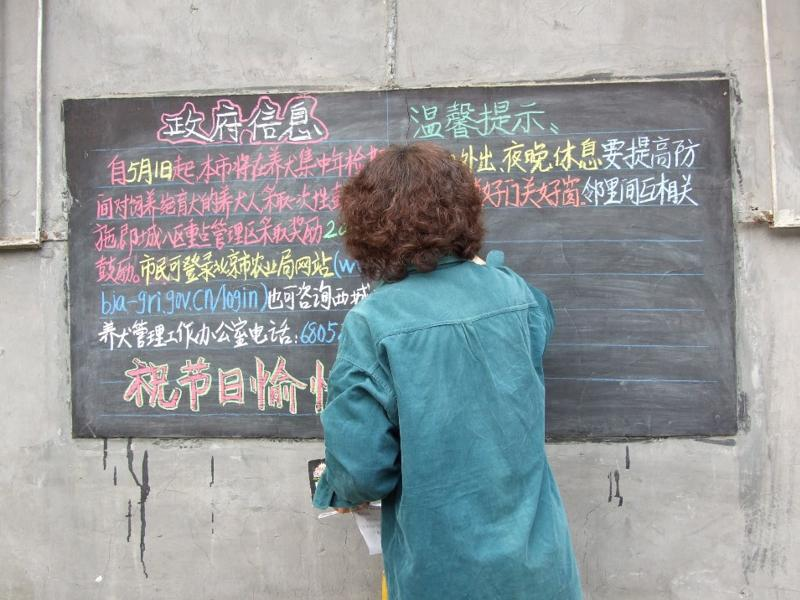person: (311, 142, 589, 600)
